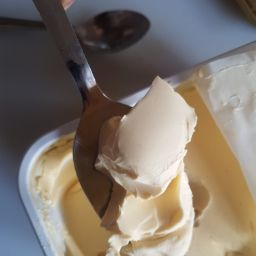Butter: (24, 95, 256, 256), (68, 76, 205, 254)
